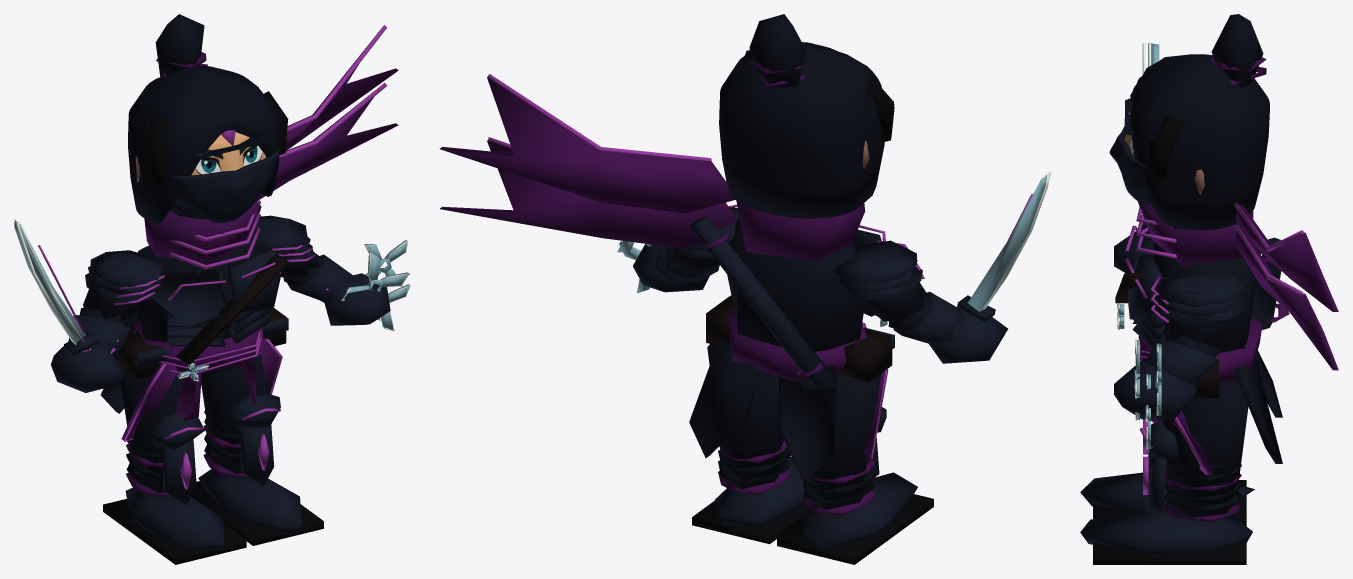
File: ninja.glb
The picture shows the model from 3 angles, left to right: view 1: azimuth 30°, elevation 25°; view 2: azimuth 150°, elevation 25°; view 3: azimuth 270°, elevation 25°; orthographic projection. The views are drawn at different scales.
Visible parts, largest first — view 1: Head_Geometry, Body_Geometry, Leg_L_Geometry, Leg_R_Geometry, Arm_R_Geometry, Arm_L_Geometry, Weapon_Cutlass_Geometry, Weapon_Pistol_Geometry; view 2: Head_Geometry, Body_Geometry, Leg_R_Geometry, Leg_L_Geometry, Arm_R_Geometry, Arm_L_Geometry, Weapon_Cutlass_Geometry; view 3: Head_Geometry, Leg_L_Geometry, Body_Geometry, Arm_L_Geometry, Leg_R_Geometry, Weapon_Pistol_Geometry, Arm_R_Geometry, Weapon_Cutlass_Geometry.
Part boxes in pixels (x1,y1,x2,y2): Head_Geometry: (128, 14, 398, 268); Body_Geometry: (100, 229, 289, 441); Leg_L_Geometry: (191, 346, 323, 545); Leg_R_Geometry: (103, 370, 246, 564); Arm_R_Geometry: (51, 250, 165, 392); Arm_L_Geometry: (255, 215, 390, 325); Weapon_Cutlass_Geometry: (14, 219, 99, 355); Weapon_Pistol_Geometry: (341, 240, 410, 331); Head_Geometry: (440, 14, 894, 261); Body_Geometry: (689, 217, 894, 482); Leg_R_Geometry: (777, 374, 933, 564); Leg_L_Geometry: (692, 343, 811, 544); Arm_R_Geometry: (833, 240, 1007, 363); Arm_L_Geometry: (633, 204, 739, 292); Weapon_Cutlass_Geometry: (957, 172, 1051, 321); Head_Geometry: (1109, 14, 1338, 370); Leg_L_Geometry: (1080, 378, 1252, 564); Body_Geometry: (1115, 225, 1289, 475); Arm_L_Geometry: (1114, 272, 1247, 419); Leg_R_Geometry: (1080, 419, 1254, 520); Weapon_Pistol_Geometry: (1134, 339, 1161, 449); Arm_R_Geometry: (1114, 228, 1143, 273); Weapon_Cutlass_Geometry: (1142, 43, 1159, 228).
Bounding box in the file's own units: 2.43 × 2.4 × 1.1.
Materials: 2 (2 with a texture image).
